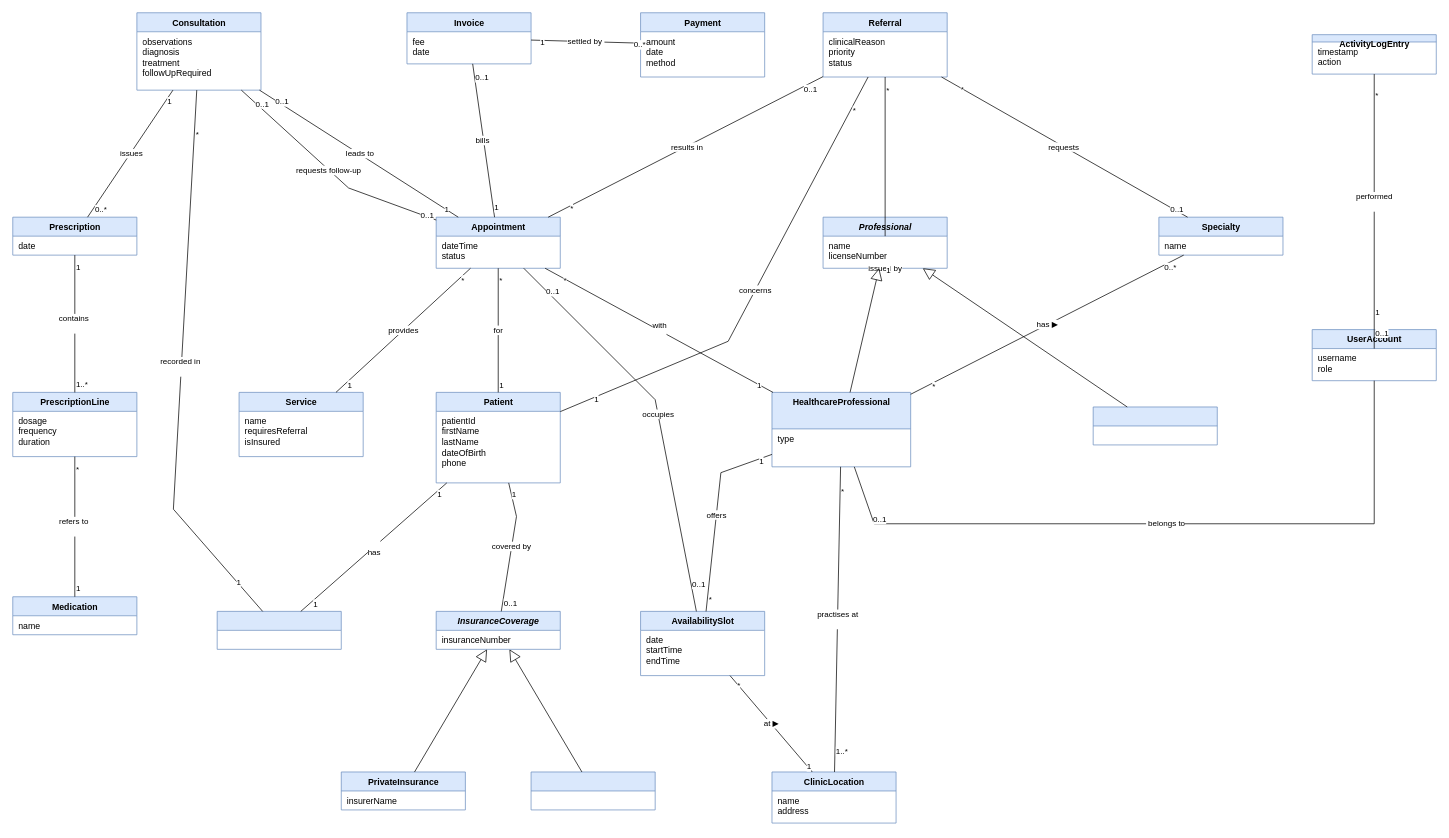
Image size: 1449x838. Some labels were removed from this diagram. Here are the shapes that lost their labels. From the top down, the centre of each, then its label:
the point at 1154,425: ExternalPhysician
the point at 278,630: ClinicalRecord
the point at 592,790: RAMQCoverage
